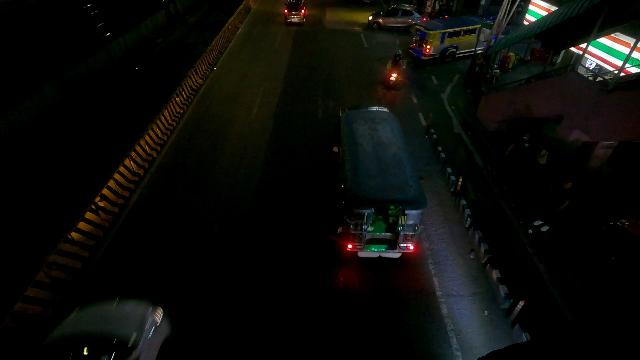car: (368, 5, 422, 32), (284, 0, 309, 25)
jeepney: (326, 95, 427, 265), (407, 15, 493, 63)
motorcycle: (384, 50, 406, 91)
